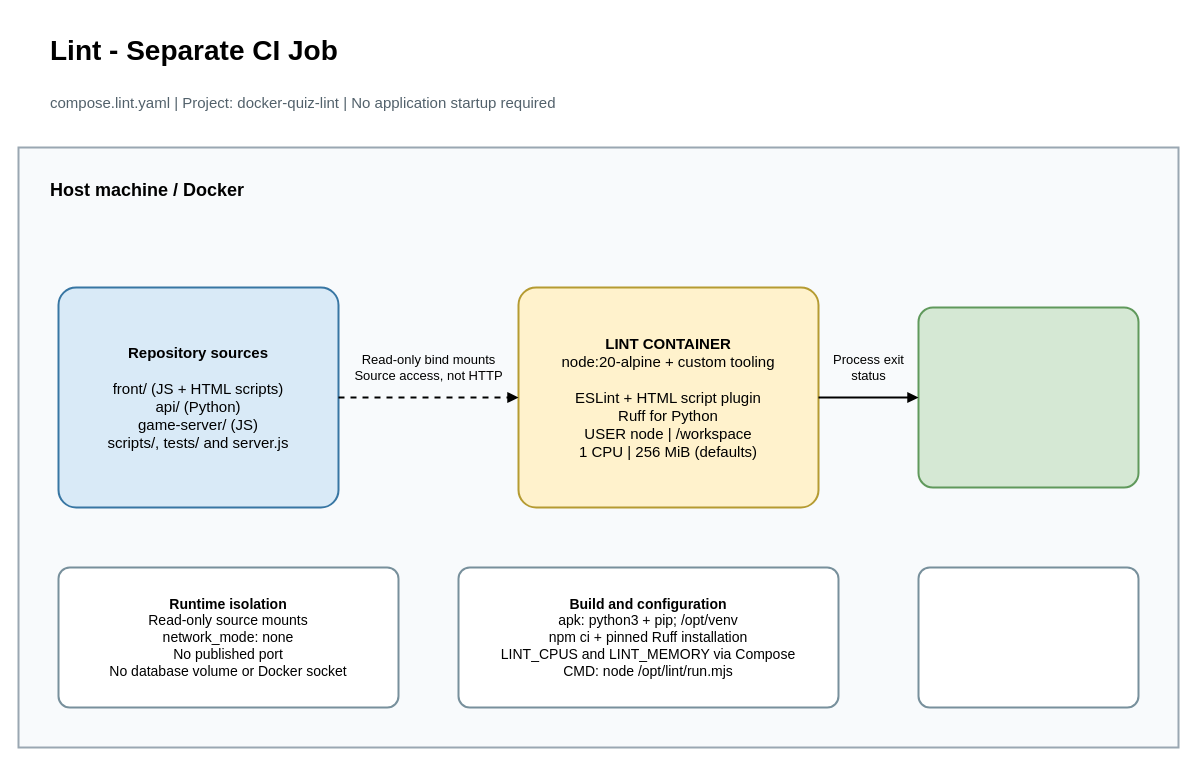
Some shapes in this 1196 by 765 pixel diagram are drawn without their labels. The box of each missing label's shape, as (x1, y1, x2, y2) in pixels:
CI result Exit 0: all checks passed Exit 1: a check failed --exit-code-from lint: (917, 306, 1139, 488)
One-shot job No healthcheck No automatic fixes Not a functional test service: (917, 566, 1139, 708)
